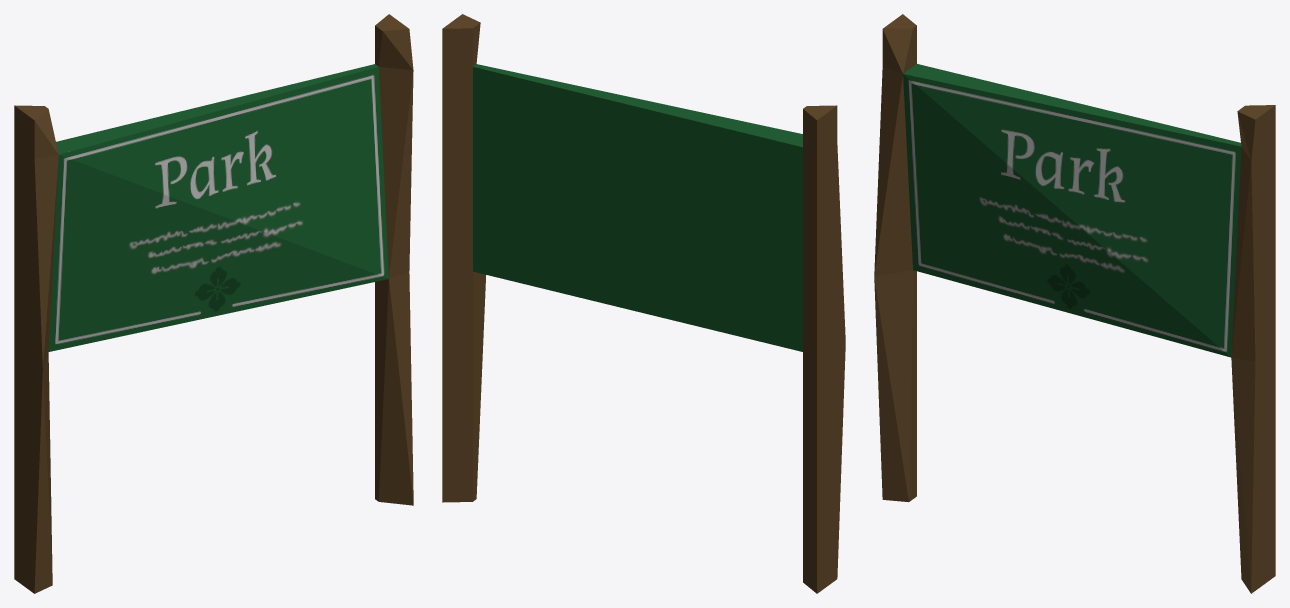
Rendered from SM_parksign_1_AN.fbx.
The picture shows the model from 3 angles, left to right: view 1: azimuth 30°, elevation 25°; view 2: azimuth 150°, elevation 25°; view 3: azimuth 330°, elevation 25°; orthographic projection.
Parts seen in each view (by area): view 1: SM_parksign_1_AN; view 2: SM_parksign_1_AN; view 3: SM_parksign_1_AN.
Boxes of the visible parts, <box> form: SM_parksign_1_AN: <box>14,14,413,593</box>; SM_parksign_1_AN: <box>442,14,845,593</box>; SM_parksign_1_AN: <box>874,14,1275,593</box>.
Bounding box in the file's own units: 87.07 × 105 × 11.55.
